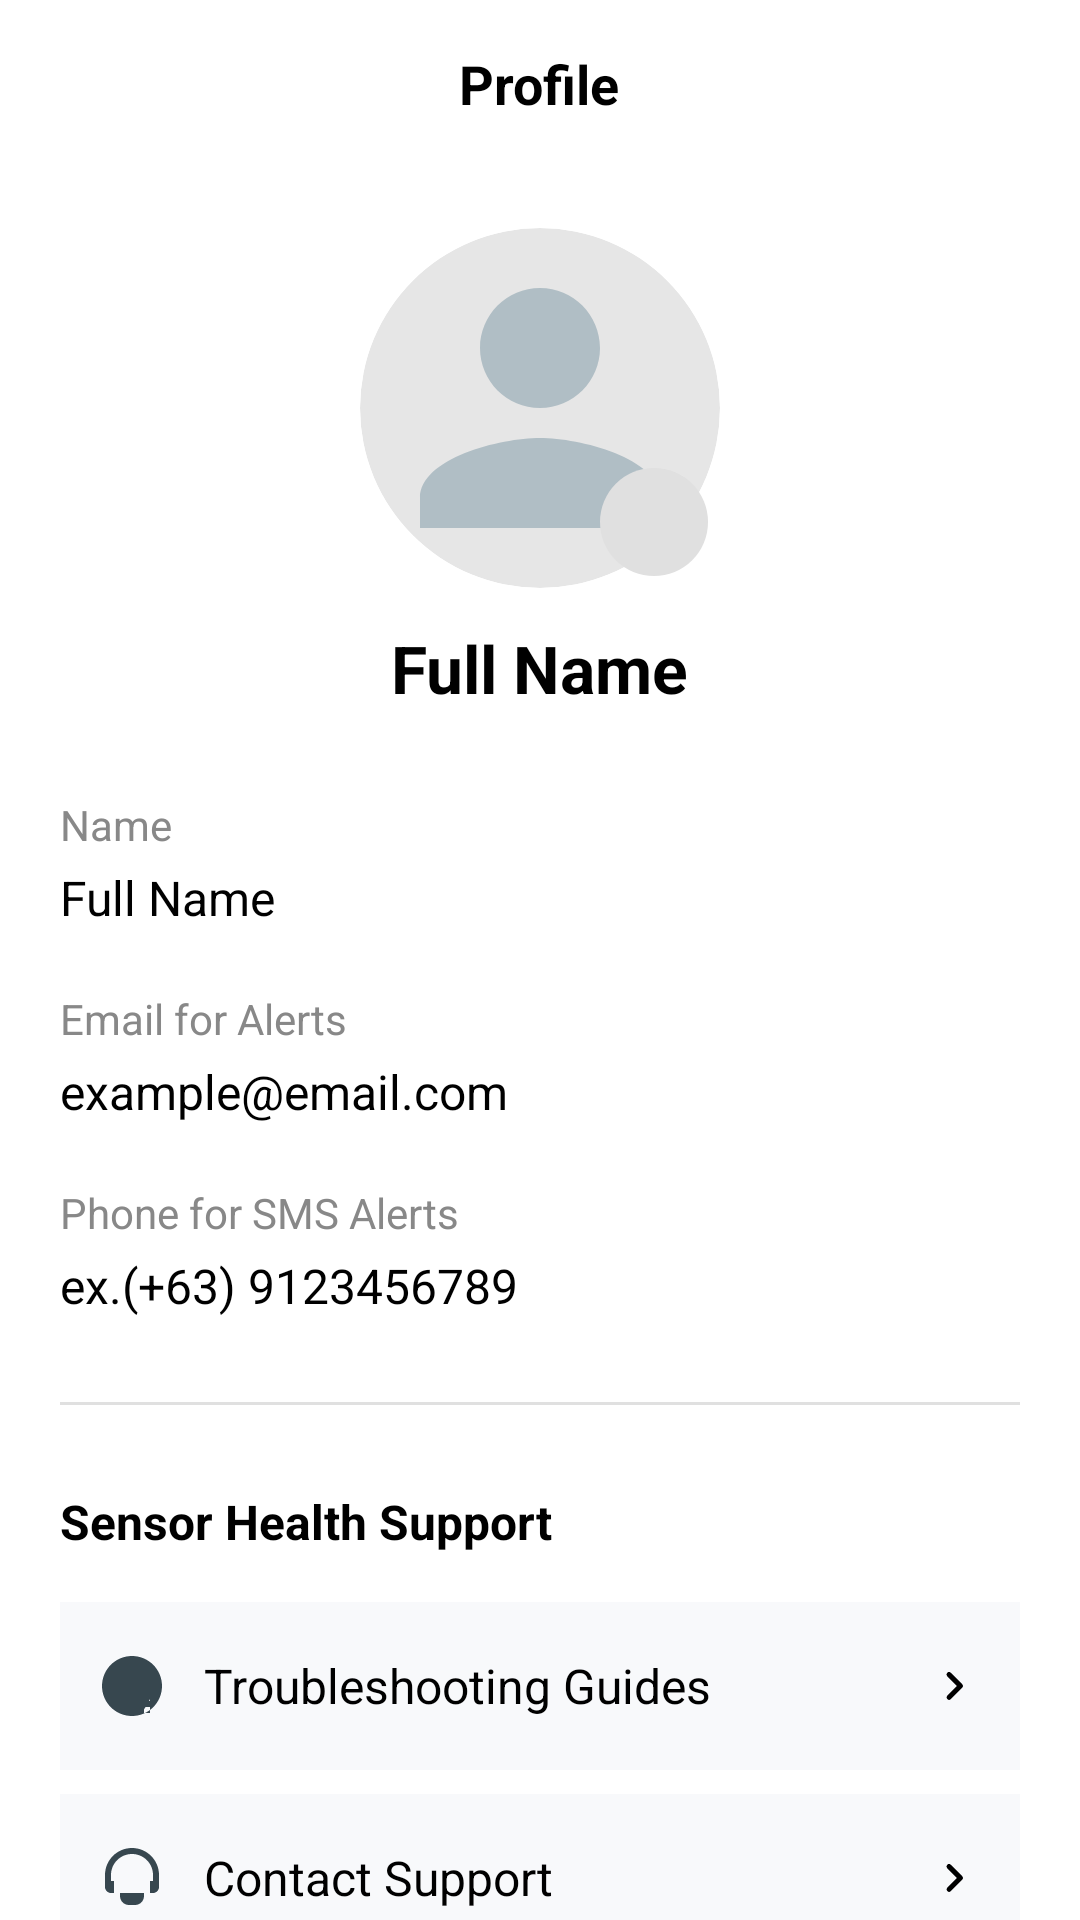

Named icons in this screenshot (1080 x 1920) and their bounding boxes, (x1, y1, x2, y2):
Next: (946, 1672, 963, 1700), (946, 1864, 963, 1892)
